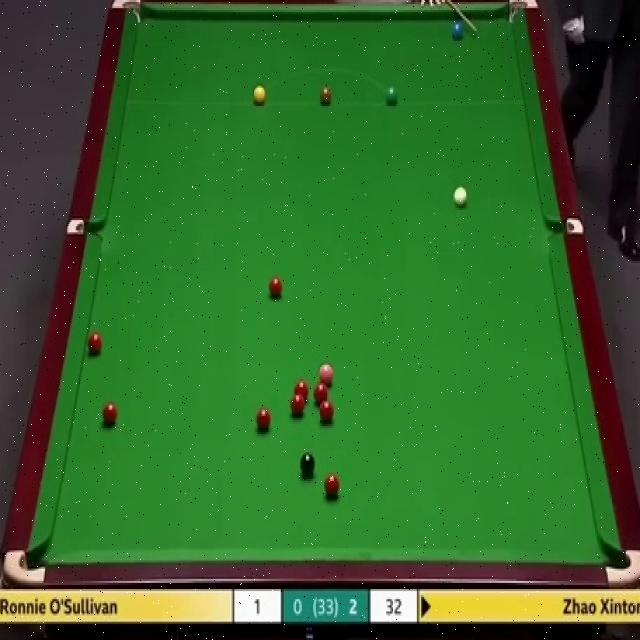black-ball: (300, 451, 317, 480)
blue-ball: (450, 16, 466, 42)
brown-ball: (319, 86, 333, 108)
green-ball: (385, 86, 399, 107)
pink-ball: (316, 362, 334, 386)
red-ball: (101, 401, 119, 429), (325, 474, 342, 500), (289, 394, 306, 418), (86, 331, 102, 356), (268, 275, 284, 300), (256, 407, 271, 433), (293, 380, 310, 401), (320, 399, 334, 423), (313, 384, 329, 404)
white-ball: (452, 183, 469, 210)
yellow-ball: (253, 85, 267, 106)
